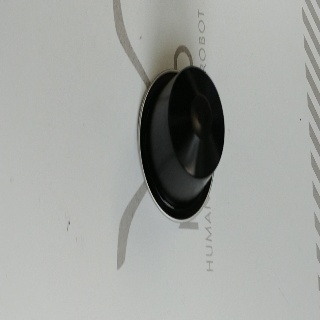capsule_10: (136, 65, 225, 225)
